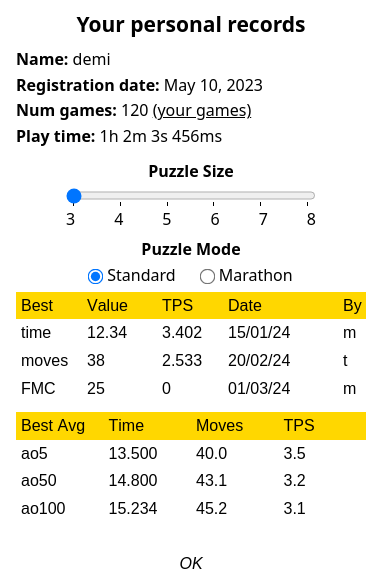
it: UserAccount › re-filters best records when marathon mode is picked, showing no date for a record missing one
Expected: the table with class "items-table" that starts with "Best" is shown, x1=16 y1=292 x2=366 y2=402
Click the radio button labelled "Marathon": (207, 276) x1=199 y1=268 x2=215 y2=284
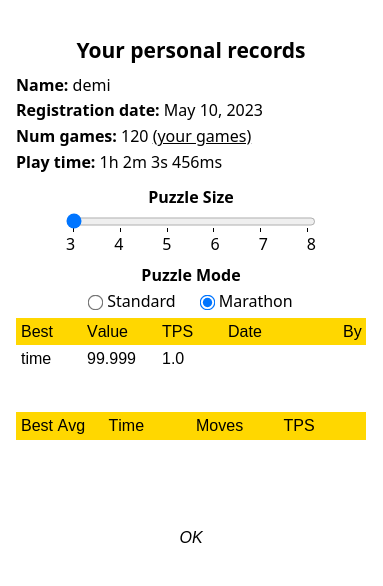
Now the cell "99.999" is shown, box x1=82 y1=345 x2=157 y2=373
Now the 4th cell is empty, box x1=223 y1=345 x2=338 y2=373
